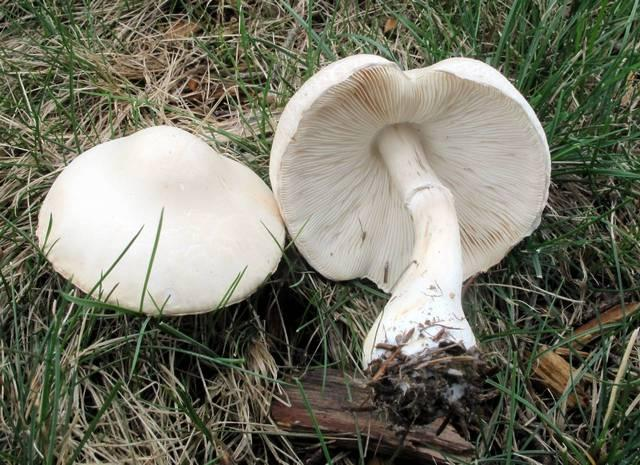Non-edible Mushroom: (268, 51, 552, 387), (35, 123, 286, 317)
